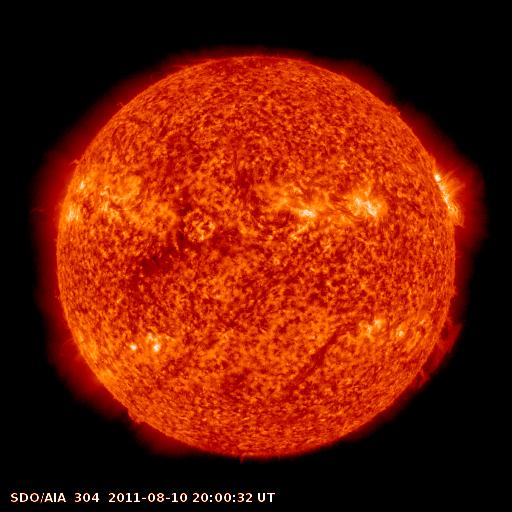prominence: (406, 308, 472, 391), (117, 400, 151, 432)
